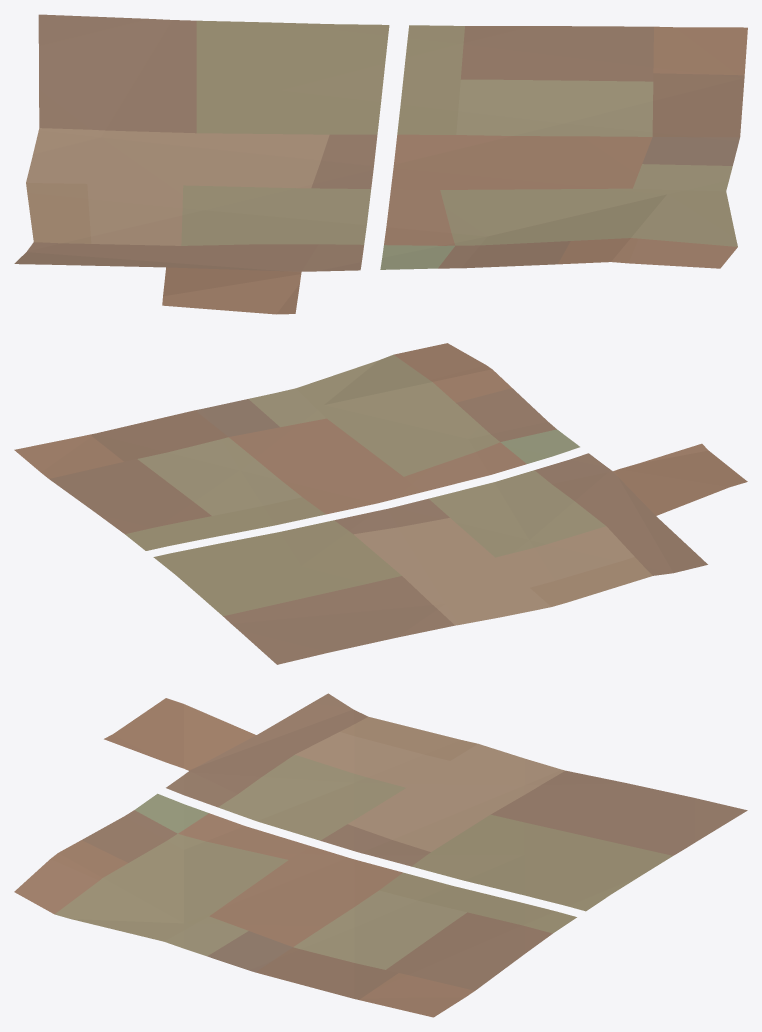
File: farm_-24_-25_soil.glb
3 renders of one model, top to bottom at view 1: azimuth 30°, elevation 25°; view 2: azimuth 150°, elevation 25°; view 3: azimuth 270°, elevation 25°, orthographic. The views are drawn at different scales.
Visible parts, largest first — view 1: geometry_0; view 2: geometry_0; view 3: geometry_0.
Part boxes in pixels (left/top/right/bottom): geometry_0: left=14, top=14, right=747, bottom=314; geometry_0: left=14, top=343, right=747, bottom=664; geometry_0: left=14, top=693, right=747, bottom=1017.
Bounding box in the file's own units: 356 × 12.87 × 345.
